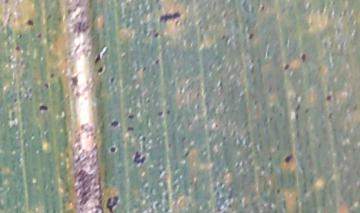tarspot: (107, 196, 119, 213), (133, 151, 146, 165), (159, 13, 181, 21), (110, 119, 120, 128), (247, 30, 254, 42), (38, 105, 49, 112), (300, 52, 307, 63), (283, 62, 291, 70), (42, 81, 50, 89), (108, 75, 116, 83), (97, 65, 104, 74), (285, 154, 292, 163), (95, 55, 101, 65), (26, 19, 34, 26), (128, 113, 135, 121), (325, 94, 332, 102), (13, 44, 21, 51), (259, 5, 266, 13), (127, 125, 134, 132), (275, 188, 282, 195), (109, 147, 117, 153), (37, 32, 43, 40), (293, 113, 299, 121), (153, 30, 159, 37), (49, 73, 56, 79), (166, 108, 171, 116), (154, 58, 160, 64), (294, 105, 300, 111), (141, 136, 146, 143), (157, 111, 163, 115), (19, 34, 23, 40)
